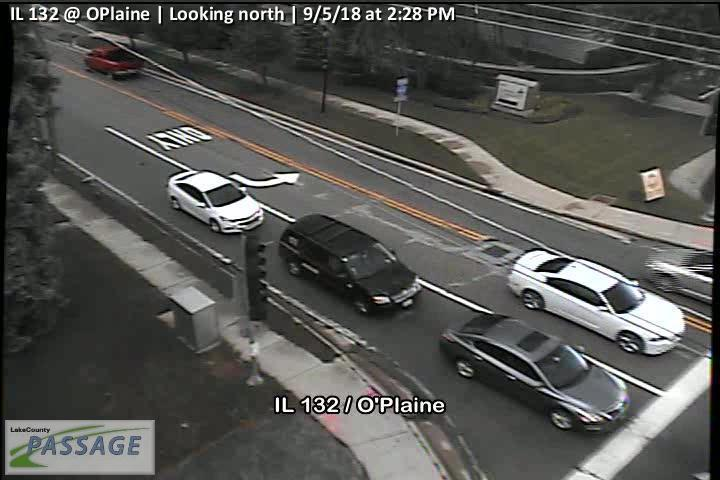SUV: (279, 214, 423, 313)
Sedan: (439, 310, 629, 433), (505, 248, 686, 356), (167, 170, 264, 233)
Truck: (85, 43, 144, 80)
